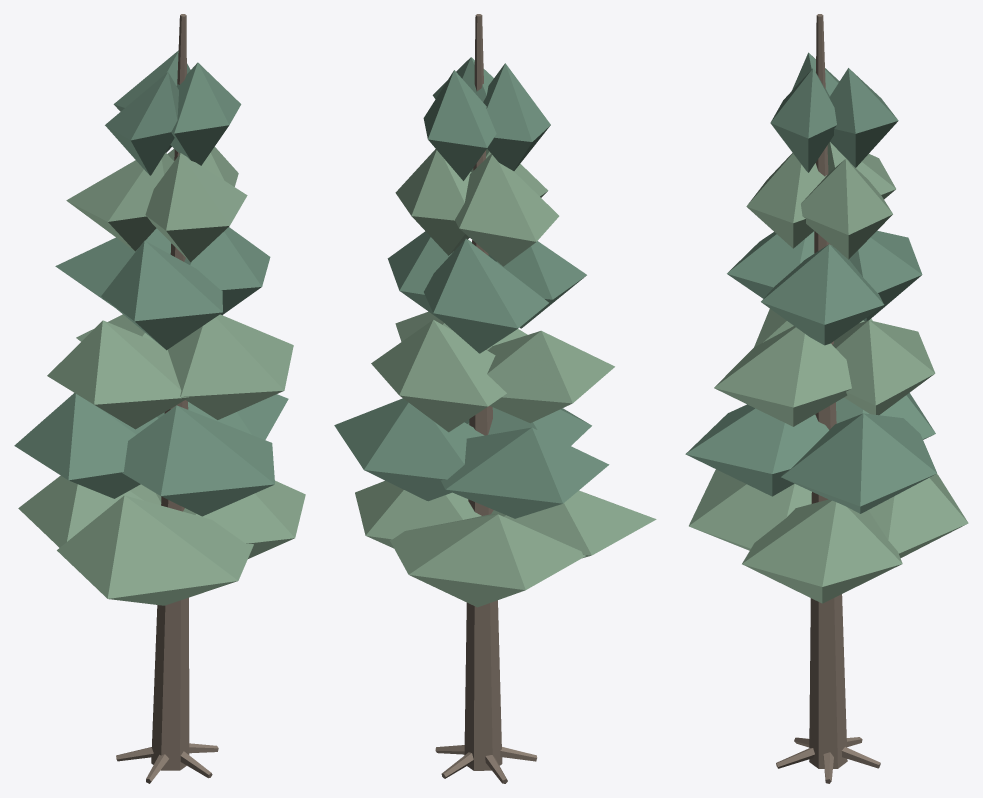
3 renders of one model, left to right at view 1: azimuth 30°, elevation 25°; view 2: azimuth 150°, elevation 25°; view 3: azimuth 270°, elevation 25°, orthographic.
Bounding box in the file's own units: 8.7 × 24.61 × 8.41.
